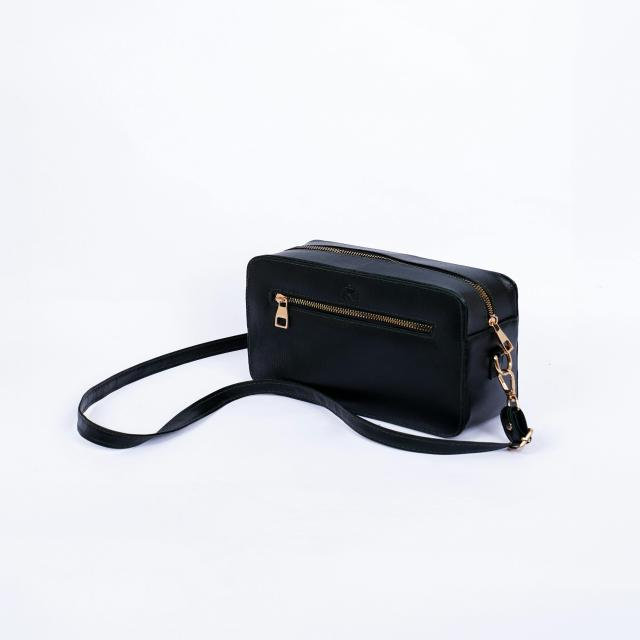bolsa: (66, 231, 536, 458)
